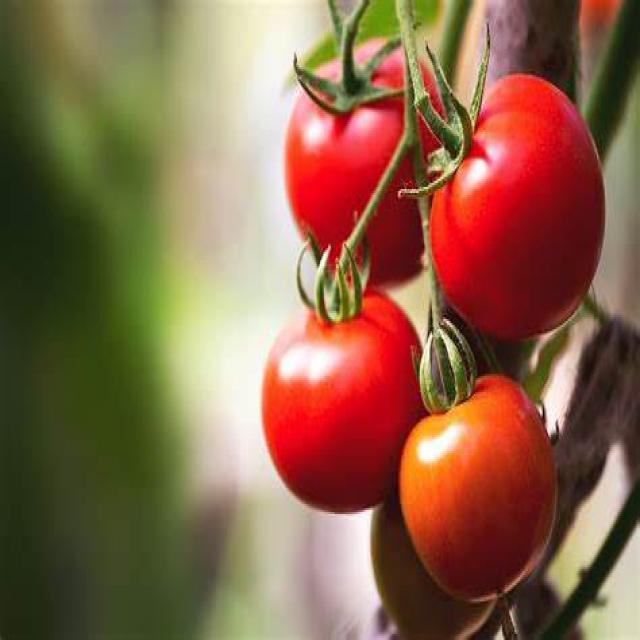Tomato: (413, 73, 608, 348), (400, 336, 562, 600), (258, 253, 420, 510), (284, 33, 434, 287)
